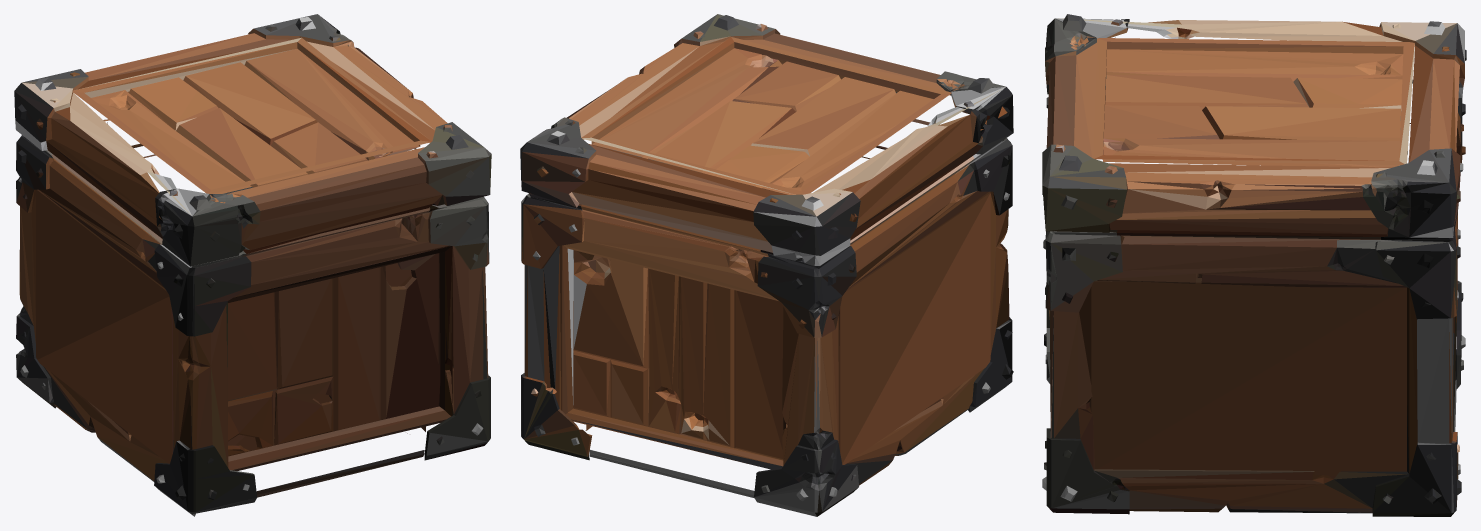
The model's file is Crate.glb.
The picture shows the model from 3 angles, left to right: view 1: azimuth 30°, elevation 25°; view 2: azimuth 150°, elevation 25°; view 3: azimuth 270°, elevation 25°; orthographic projection. The views are drawn at different scales.
Visible parts, largest first — view 1: world; view 2: world; view 3: world.
Part boxes in pixels (x1,y1,x2,y2): world: [14, 14, 491, 516]; world: [520, 14, 1013, 516]; world: [1042, 14, 1466, 516].
Size of the model in its own units: 0.9785 by 0.9004 by 0.998.
